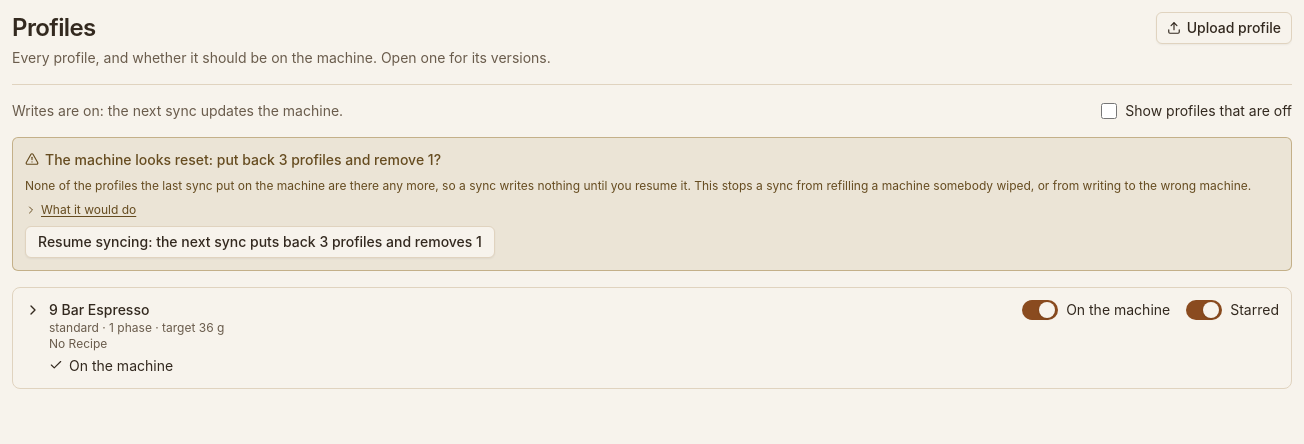
Scenario: the reset guard › keeps the per-profile lines one click away
The image size is (1304, 444).
Click the button with test id "reset-lines-toggle" at (81, 210), box [25,202,136,218]
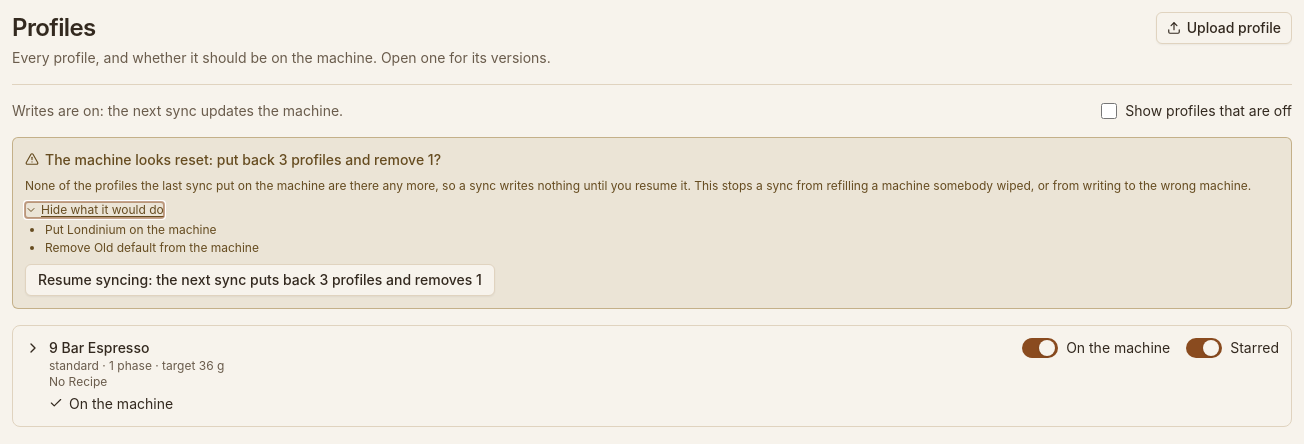
Expected: the list with test id "reset-lines" shows "Put Londinium on the machine", [45,222,217,237]
Expected: the list with test id "reset-lines" shows "Remove Old default from the machine", [45,240,259,255]
